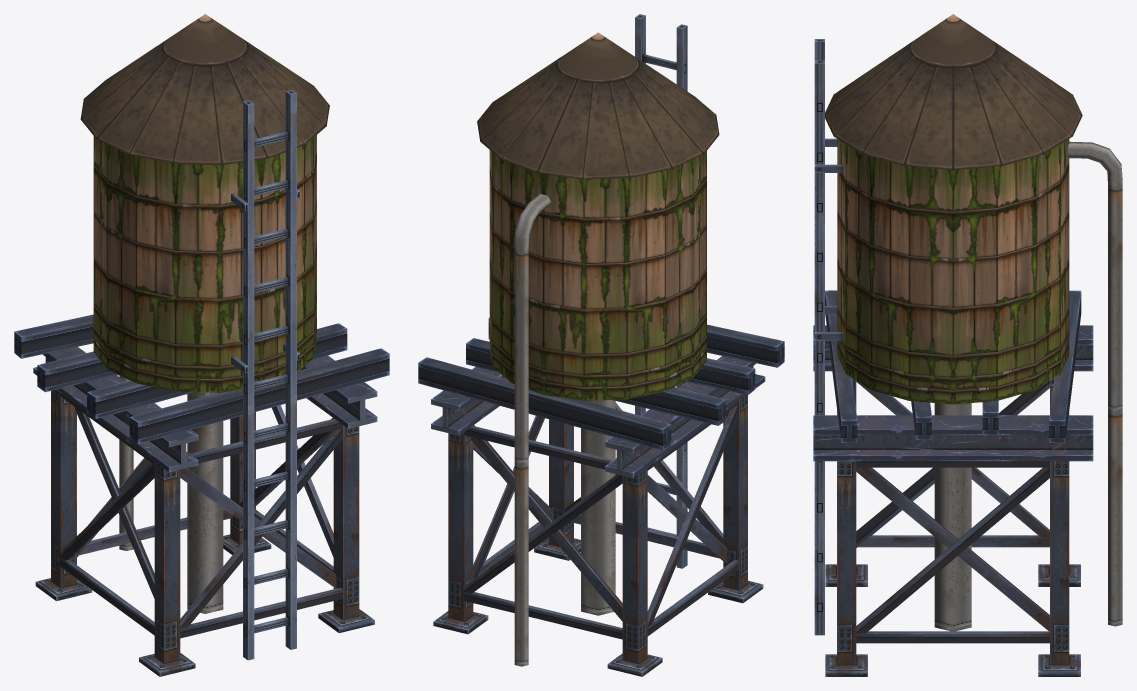
File: waterTank01_C.fbx
The picture shows the model from 3 angles, left to right: view 1: azimuth 30°, elevation 25°; view 2: azimuth 150°, elevation 25°; view 3: azimuth 270°, elevation 25°; orthographic projection. The views are drawn at different scales.
Parts seen in each view (by area): view 1: waterTank01_C; view 2: waterTank01_C; view 3: waterTank01_C.
Boxes of the visible parts, x1,y1,x2,y2 form: waterTank01_C: [14, 14, 389, 676]; waterTank01_C: [418, 14, 784, 676]; waterTank01_C: [813, 14, 1122, 676].
Bounding box in the file's own units: 339 × 694 × 320.
